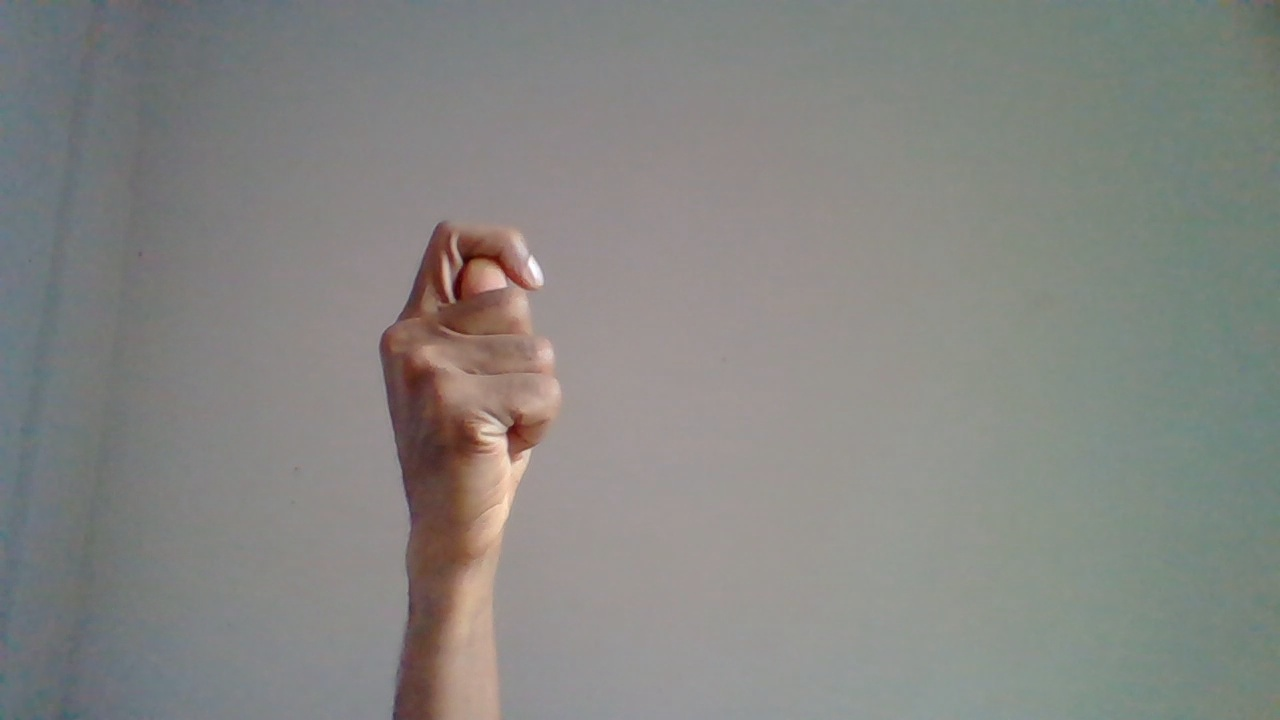che: (379, 219, 570, 699)
